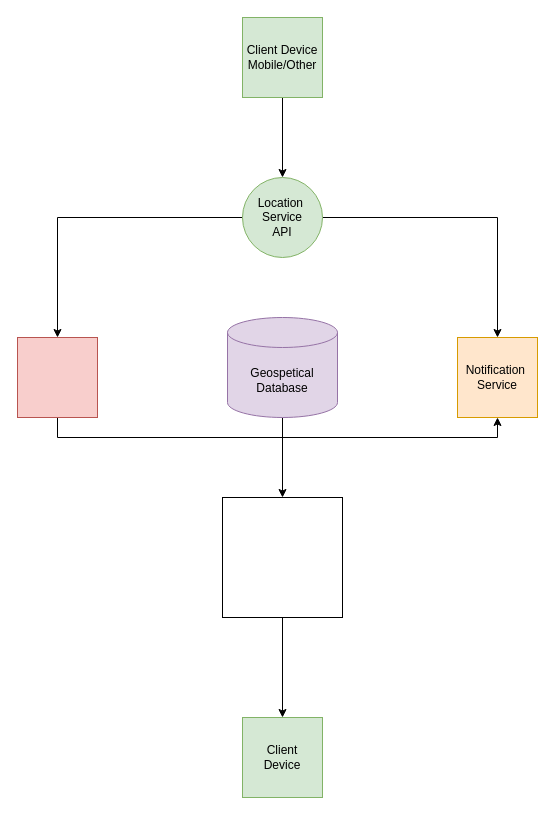
The diagram is 555 pixels wide and 815 high, and some of its shapes have lost their labels. Here are the shapes that lost their labels. From the top down, the box of each, then its label:
(16, 336, 98, 418): User Management Service
(222, 496, 342, 618): Mapping and Visualization Service
